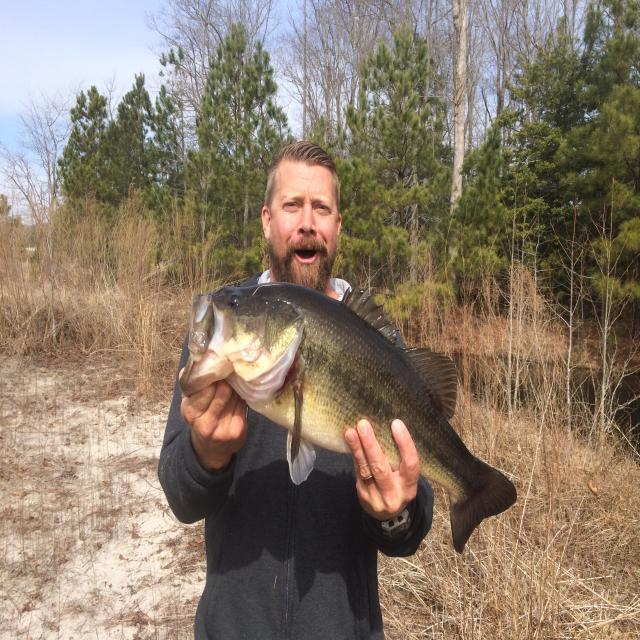Bass - Largemouth: (179, 283, 516, 553)
